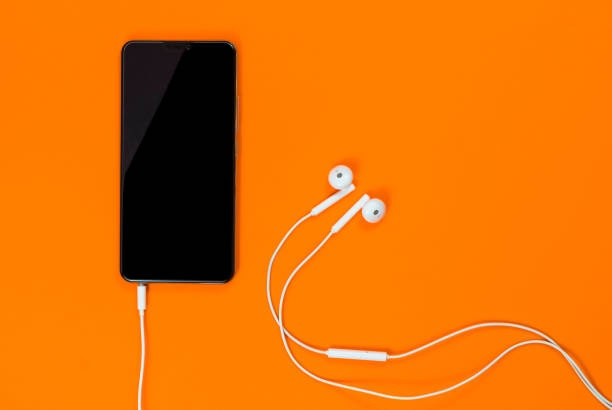phone: (119, 39, 238, 285)
